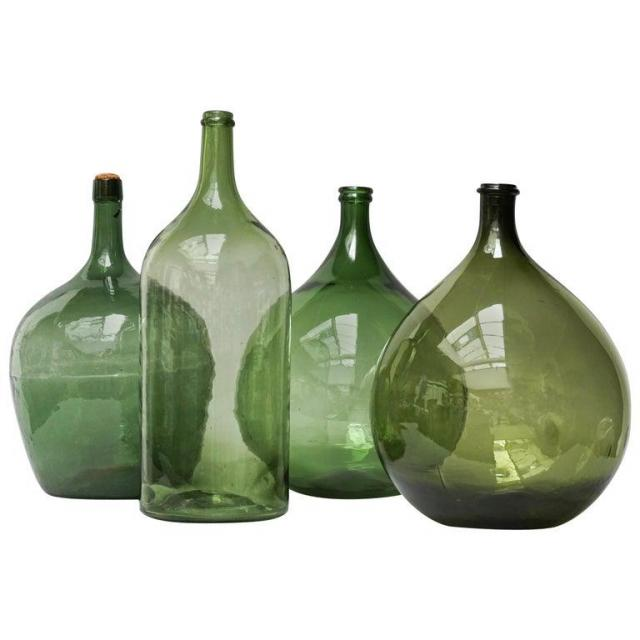non-organic waste: (378, 176, 632, 534), (134, 92, 294, 529)
